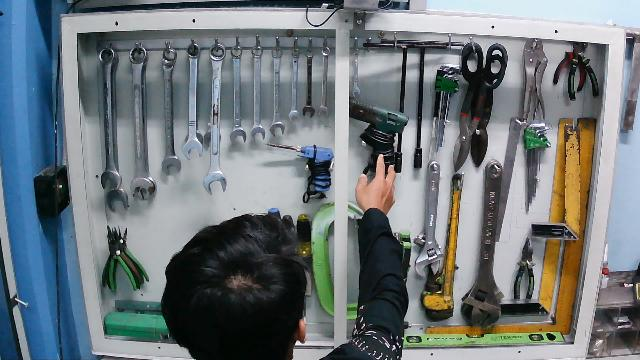gun_lem: (347, 95, 411, 207)
